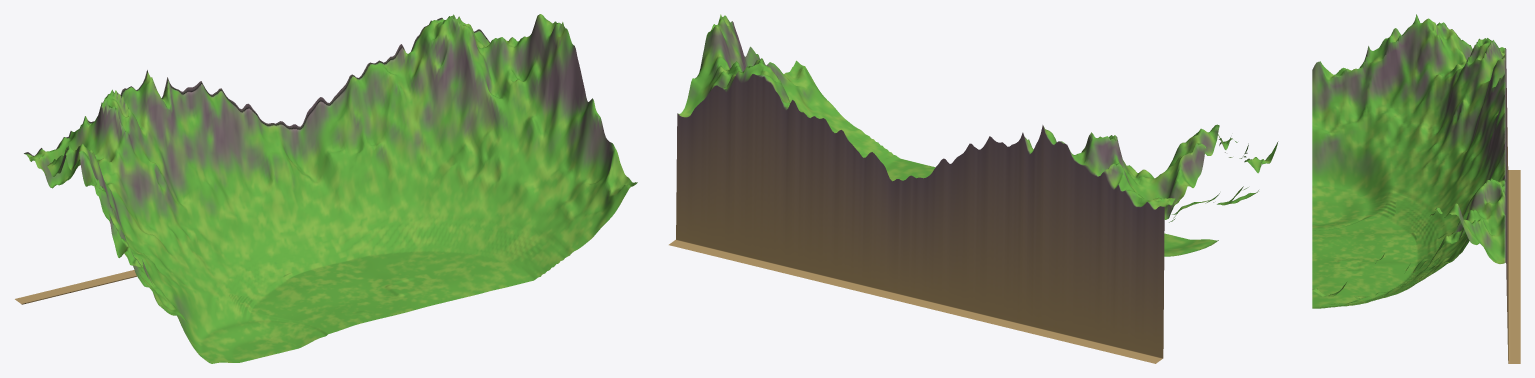
Rendered from terrain.glb.
The picture shows the model from 3 angles, left to right: view 1: azimuth 30°, elevation 25°; view 2: azimuth 150°, elevation 25°; view 3: azimuth 270°, elevation 25°; orthographic projection. The views are drawn at different scales.
Visible parts, largest first — view 1: terrain_4_-1, terrain_3_-1, terrain_1_-1, terrain_2_-1, terrain_5_-1, terrain_4_0, terrain_0_-1, terrain_3_-2, terrain_2_-2, terrain_1_0, terrain_5_0, terrain_1_-2 (+5 smaller); view 2: terrain_1_-2, terrain_0_-2, terrain_4_-2, terrain_2_-2, terrain_3_-2, terrain_5_-2, terrain_0_-1, terrain_5_-1, terrain_5_0, terrain_4_0, terrain_0_0; view 3: terrain_0_0, terrain_0_-1, terrain_1_-1, terrain_1_0, terrain_2_-1, terrain_3_0, terrain_2_0, terrain_1_-2, terrain_2_-2, terrain_4_-2, terrain_5_-2, terrain_3_-1 (+6 smaller).
Boxes of the visible parts, box(x1,y1,x2,y2) form: terrain_4_-1: box(400, 28, 542, 242); terrain_3_-1: box(311, 118, 452, 270); terrain_1_-1: box(130, 116, 271, 297); terrain_2_-1: box(220, 176, 361, 294); terrain_5_-1: box(492, 14, 587, 176); terrain_4_0: box(453, 177, 594, 287); terrain_0_-1: box(42, 104, 181, 281); terrain_3_-2: box(293, 60, 400, 182); terrain_2_-2: box(204, 86, 310, 189); terrain_1_0: box(183, 282, 323, 362); terrain_5_0: box(542, 98, 637, 235); terrain_1_-2: box(105, 70, 220, 282); terrain_1_-2: box(979, 125, 1084, 342); terrain_0_-2: box(1067, 132, 1180, 363); terrain_4_-2: box(713, 58, 810, 277); terrain_2_-2: box(890, 141, 987, 320); terrain_3_-2: box(801, 116, 898, 298); terrain_5_-2: box(669, 71, 736, 255); terrain_0_-1: box(1109, 124, 1230, 214); terrain_5_-1: box(695, 14, 747, 84); terrain_5_0: box(745, 46, 840, 120); terrain_4_0: box(827, 114, 928, 181); terrain_0_0: box(1166, 138, 1278, 256); terrain_0_0: box(1312, 28, 1395, 197); terrain_0_-1: box(1395, 14, 1478, 162); terrain_1_-1: box(1395, 61, 1478, 226); terrain_1_0: box(1312, 163, 1395, 229); terrain_2_-1: box(1395, 167, 1478, 260); terrain_3_0: box(1312, 260, 1395, 296); terrain_2_0: box(1312, 227, 1395, 261); terrain_1_-2: box(1479, 53, 1520, 240); terrain_2_-2: box(1479, 99, 1520, 275); terrain_4_-2: box(1479, 178, 1520, 346); terrain_5_-2: box(1479, 214, 1520, 363); terrain_3_-1: box(1395, 233, 1467, 288).
Size of the model in its own units: 990 by 394 by 450.
